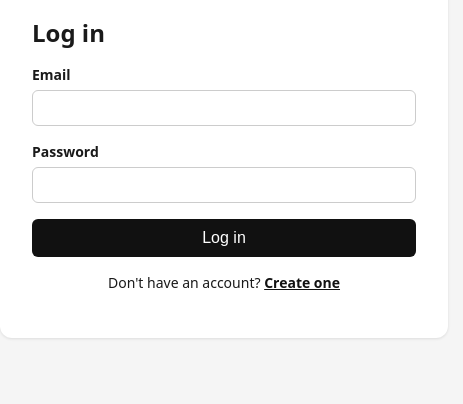
LoginPage › shows validation errors for invalid input
This screenshot has width=463, height=404.
Expected: the heading "Log in" is shown, [32, 16, 105, 49]
Type "not-an-email" into the field labelled "Email" at x=224, y=108, box [32, 90, 416, 126]
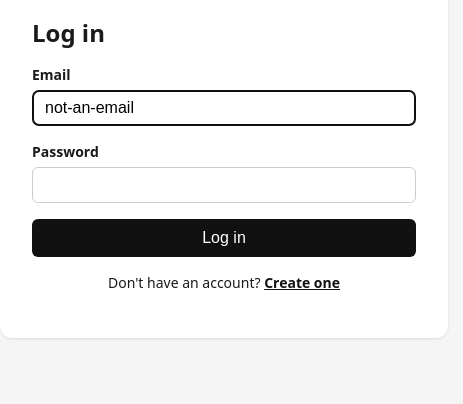
Click the button "Log in" at x=224, y=238, box [32, 219, 416, 257]
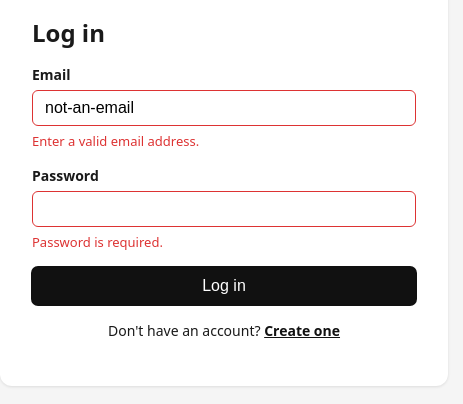
Expected: the text "Enter a valid email address." is shown, [32, 132, 199, 150]
